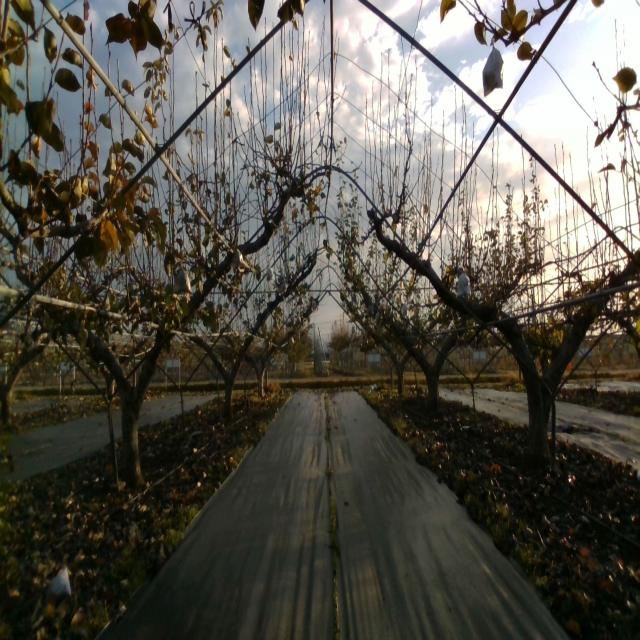pearbags: (482, 38, 503, 96), (174, 266, 192, 295), (454, 272, 472, 300), (232, 248, 243, 274)
